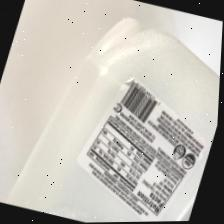plastic: (6, 0, 224, 224)
